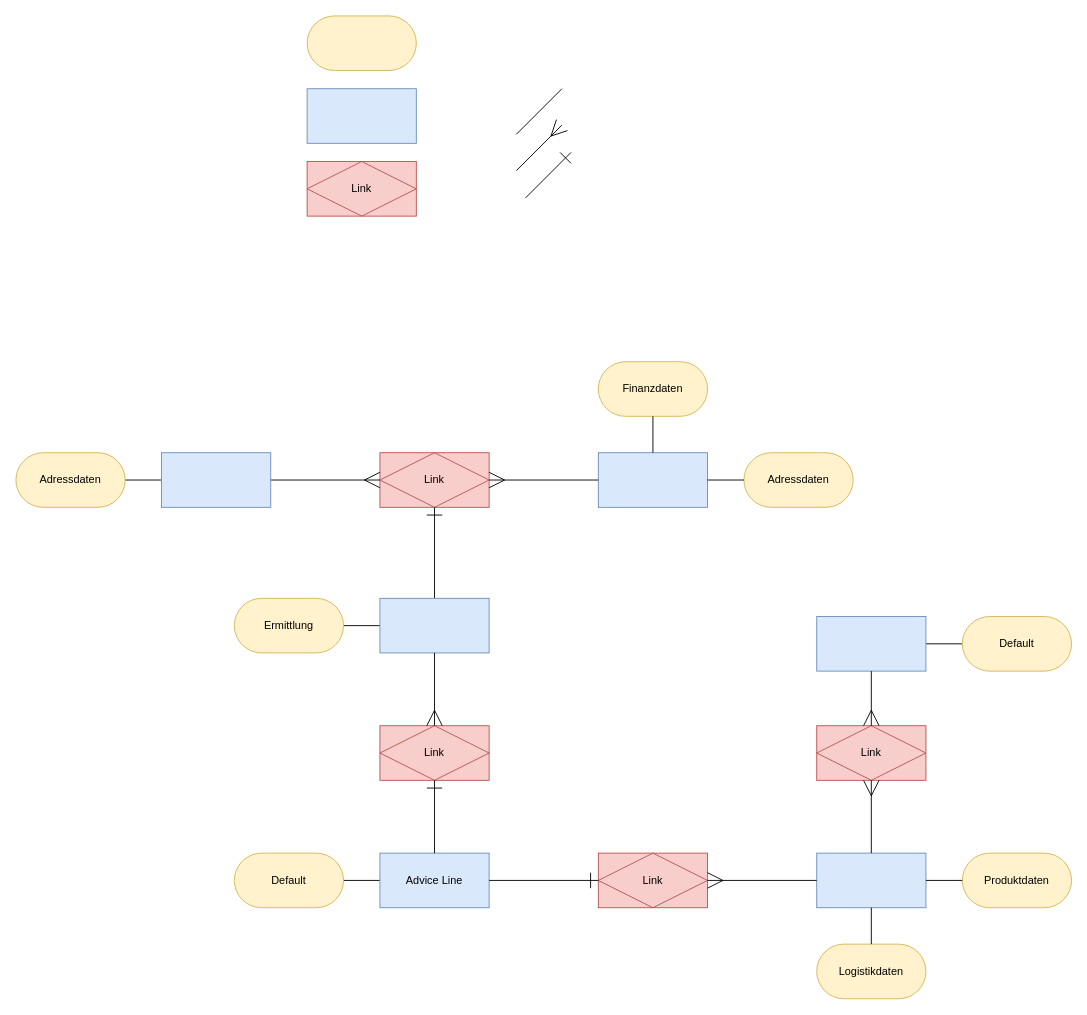
The diagram is 1087 pixels wide and 1015 high, and some of its shapes have lost their labels. Each missing label, with the box of its shape:
Advice: (379, 597, 489, 653)
Article: (816, 852, 926, 908)
Client: (597, 452, 708, 507)
Hub: (306, 88, 416, 143)
Location: (161, 452, 271, 507)
Manufacturer: (816, 616, 926, 671)
Satellite: (306, 15, 416, 71)
